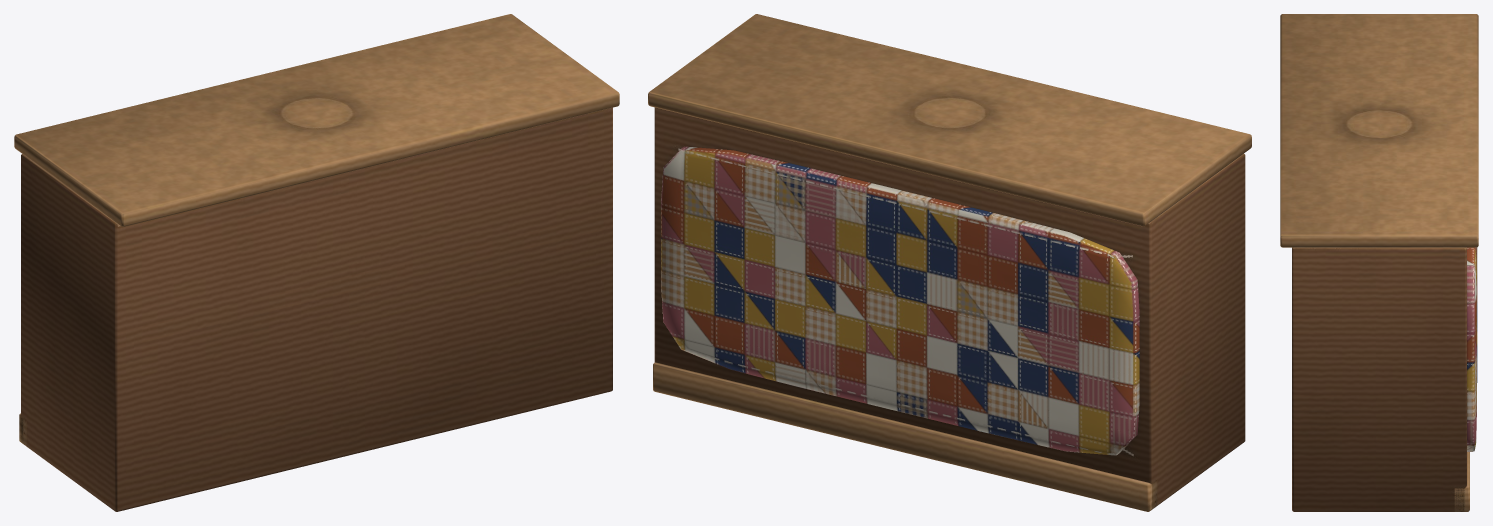
File: counter_patch.glb
The picture shows the model from 3 angles, left to right: view 1: azimuth 30°, elevation 25°; view 2: azimuth 150°, elevation 25°; view 3: azimuth 270°, elevation 25°; orthographic projection. The views are drawn at different scales.
Parts seen in each view (by area): view 1: prop_counter_patch_wood; view 2: prop_counter_patch_wood, prop_counter_patch_felt; view 3: prop_counter_patch_wood, prop_counter_patch_felt.
Boxes of the visible parts, x1,y1,x2,y2 form: prop_counter_patch_wood: (14,14,619,511); prop_counter_patch_wood: (648,14,1251,511); prop_counter_patch_felt: (661,146,1139,455); prop_counter_patch_wood: (1280,14,1478,511); prop_counter_patch_felt: (1467,247,1477,451).
Bounding box in the file's own units: 3.6 × 2.1 × 1.36.
Materials: 2 (2 with a texture image).
